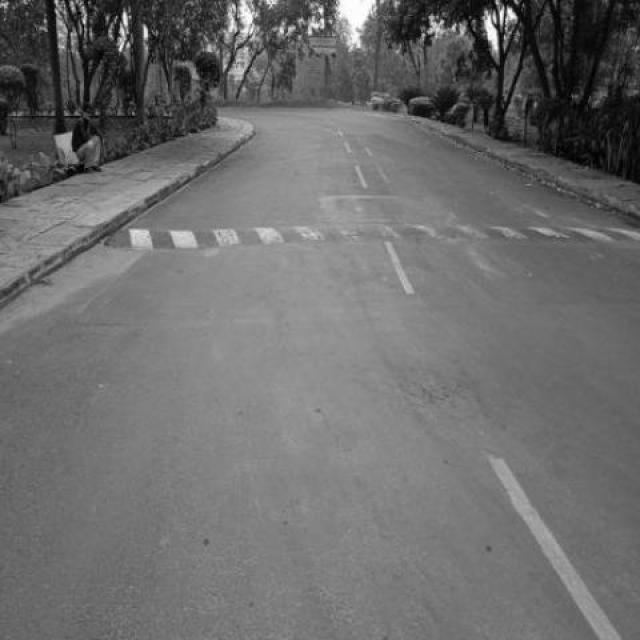Speed Bump: (99, 220, 638, 255)
